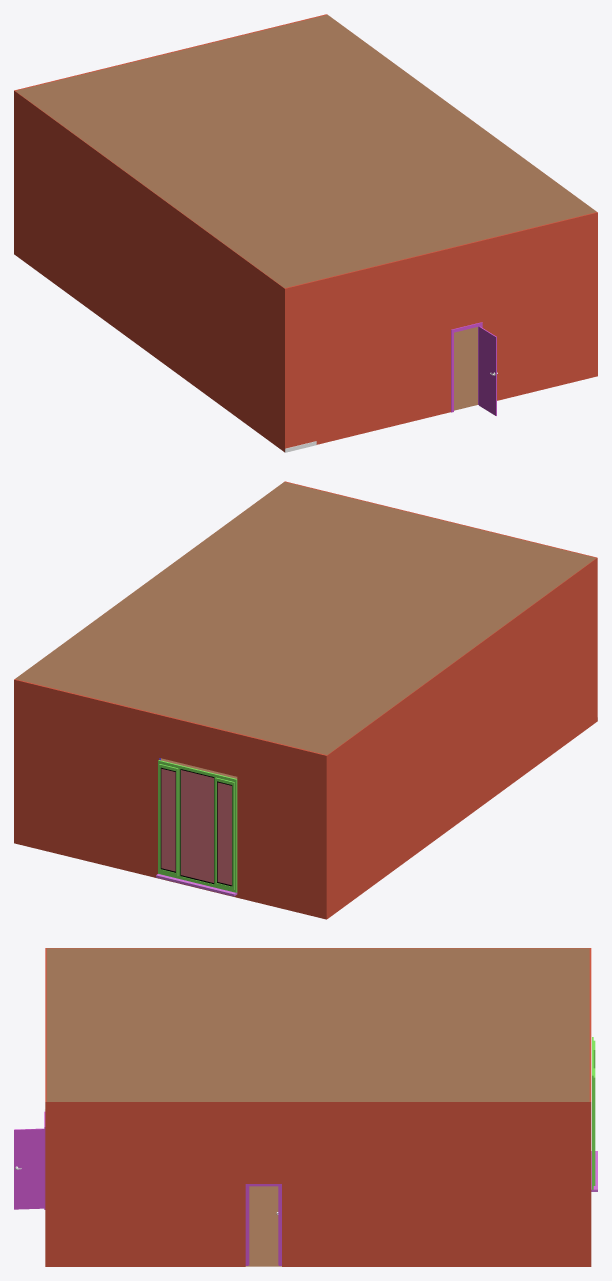
The model's file is room4.glb.
The picture shows the model from 3 angles, top to bottom: view 1: azimuth 30°, elevation 25°; view 2: azimuth 150°, elevation 25°; view 3: azimuth 270°, elevation 25°; orthographic projection.
Parts seen in each view (by area): view 1: Room.001, Plane.001, Plane.002, Door.003; view 2: Room.001, Plane.001, Window.001; view 3: Room.001, Plane.001, Door.003, Plane.002, DoorFrame.001, Window.001.
Boxes of the visible parts, left/top/right/bottom form: Room.001: left=14, top=14, right=597, bottom=452; Plane.001: left=16, top=15, right=596, bottom=287; Plane.002: left=454, top=327, right=477, bottom=410; Door.003: left=479, top=326, right=496, bottom=415; Room.001: left=14, top=481, right=597, bottom=919; Plane.001: left=15, top=482, right=595, bottom=754; Window.001: left=156, top=760, right=237, bottom=896; Room.001: left=45, top=948, right=591, bottom=1266; Plane.001: left=46, top=948, right=589, bottom=1101; Door.003: left=14, top=1128, right=44, bottom=1209; Plane.002: left=245, top=1186, right=281, bottom=1266; DoorFrame.001: left=245, top=1184, right=281, bottom=1265; Window.001: left=591, top=1037, right=597, bottom=1191.
Size of the model in its own units: 10 by 5 by 16.04.
